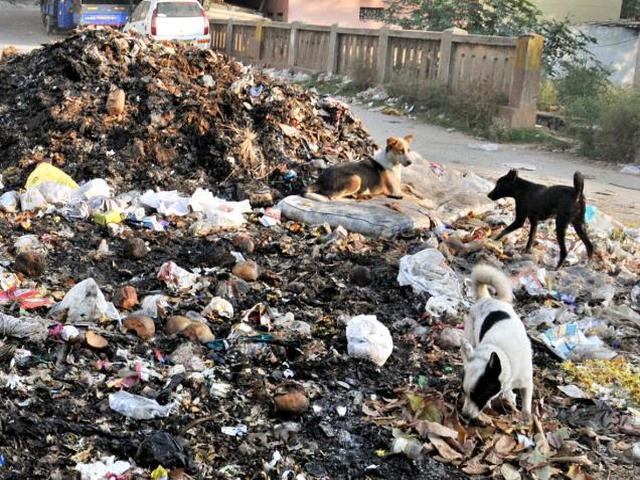garbage: (14, 52, 299, 480), (317, 247, 410, 470)
